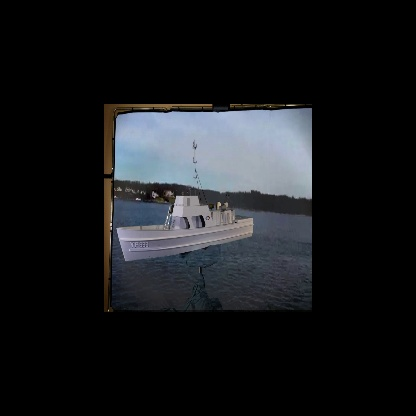YP689: (116, 140, 254, 264)
